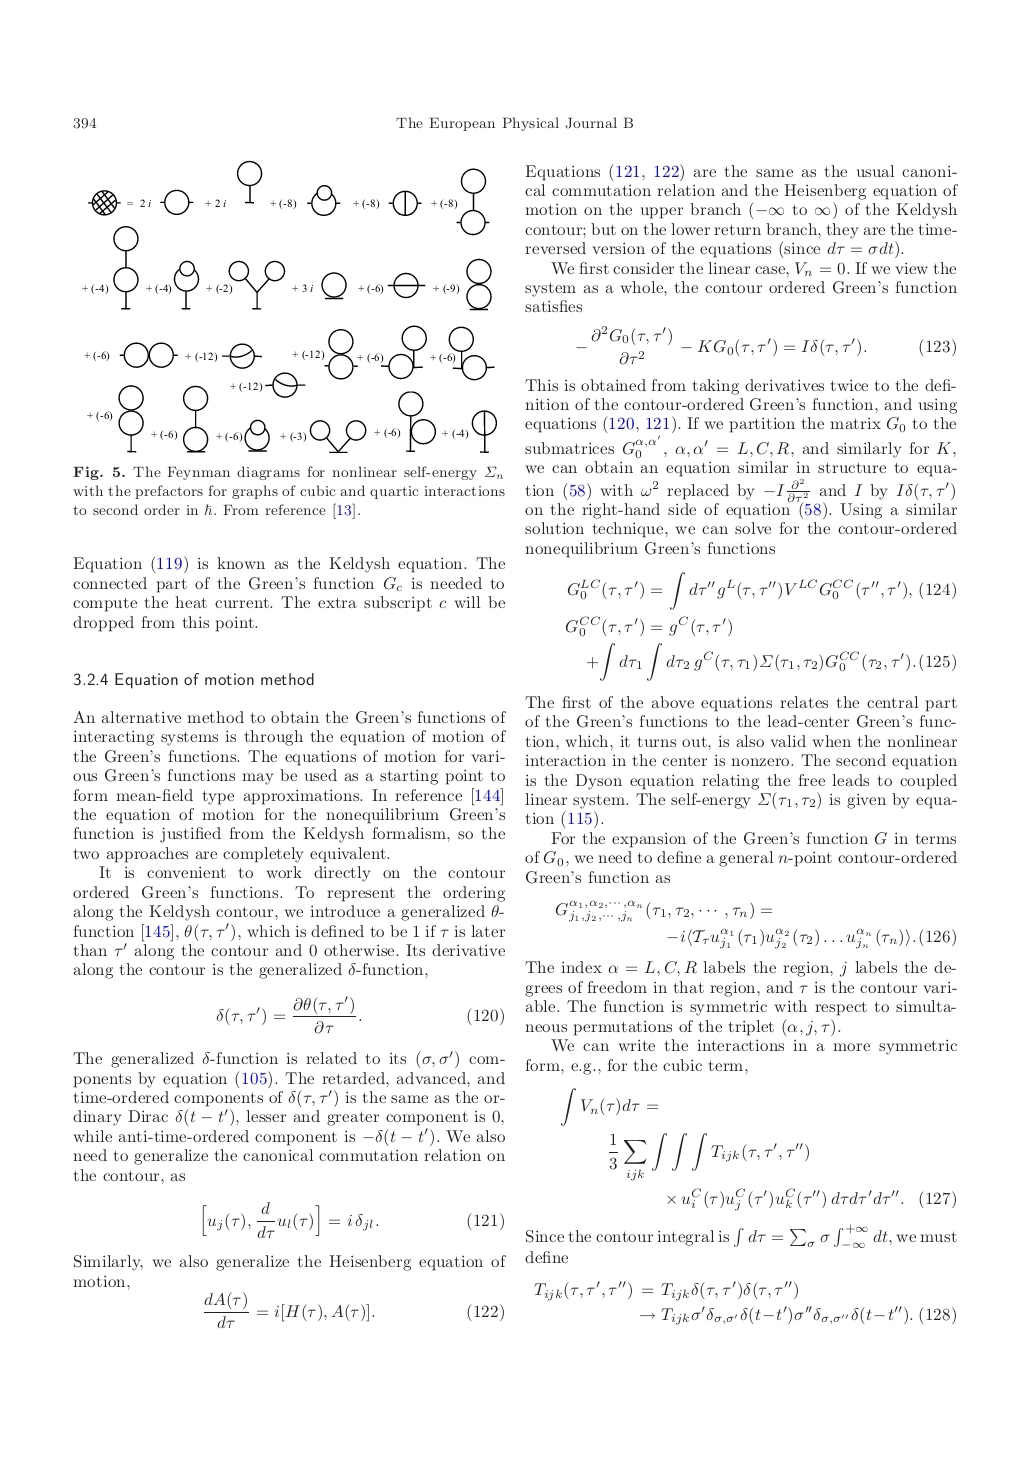figure: (81, 160, 491, 311), (84, 323, 497, 453)
formula: (576, 325, 955, 365), (567, 571, 955, 610), (587, 642, 955, 682), (202, 1201, 503, 1239), (204, 1291, 503, 1328), (216, 995, 503, 1034), (609, 1132, 808, 1181), (667, 1187, 955, 1211), (667, 927, 955, 949), (640, 1305, 955, 1325), (534, 1281, 797, 1301), (555, 899, 772, 922), (561, 1088, 658, 1125)
